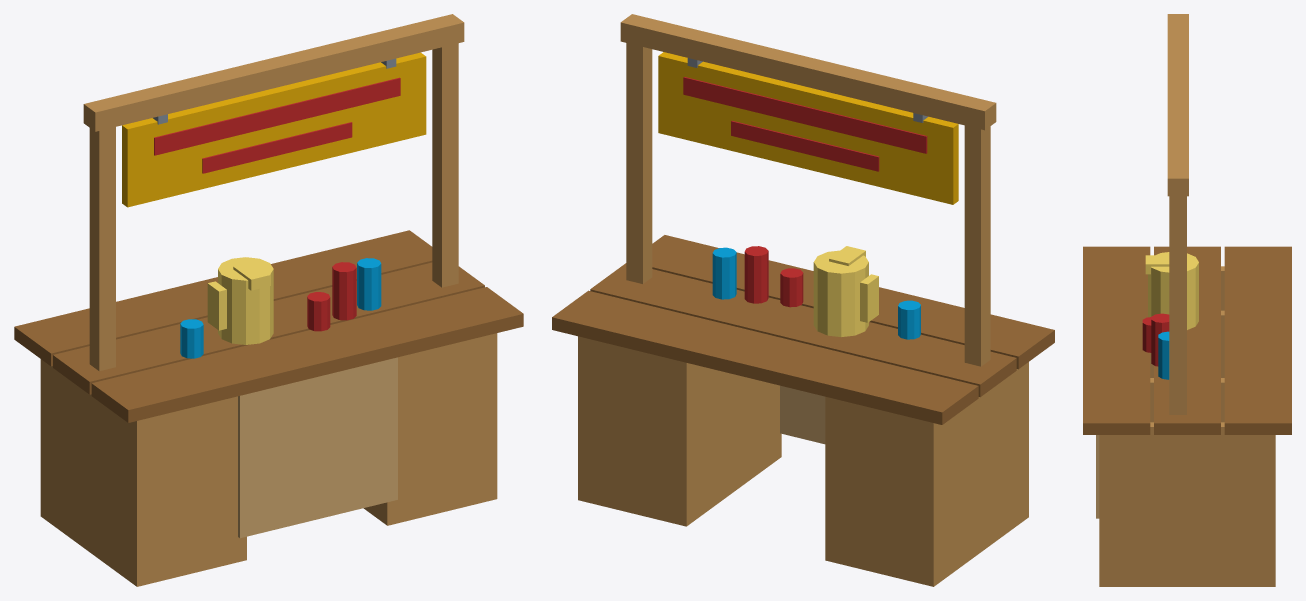
The model's file is obs_lemonade_stand_destructible.glb.
The picture shows the model from 3 angles, left to right: view 1: azimuth 30°, elevation 25°; view 2: azimuth 150°, elevation 25°; view 3: azimuth 270°, elevation 25°; orthographic projection. The views are drawn at different scales.
Parts seen in each view (by area): view 1: body, counter_plank_1, sign_swing, cardboard_apron, pitcher_body, cup_stack_r1, cup_stack_c1; view 2: body, counter_plank_1, sign_swing, pitcher_body, cup_stack_r1, cardboard_apron, cup_stack_c1; view 3: body, counter_plank_1, pitcher_body, cup_stack_r1, cup_stack_c1, cardboard_apron.
Boxes of the visible parts, left/top/right/bottom form: body: left=40, top=14, right=497, bottom=586; counter_plank_1: left=14, top=230, right=523, bottom=422; sign_swing: left=122, top=52, right=426, bottom=207; cardboard_apron: left=238, top=357, right=397, bottom=538; pitcher_body: left=207, top=257, right=273, bottom=344; cup_stack_r1: left=307, top=262, right=356, bottom=331; cup_stack_c1: left=180, top=258, right=381, bottom=358; body: left=578, top=14, right=1028, bottom=586; counter_plank_1: left=552, top=235, right=1054, bottom=424; sign_swing: left=658, top=52, right=958, bottom=204; pitcher_body: left=813, top=246, right=878, bottom=336; cup_stack_r1: left=744, top=246, right=803, bottom=307; cardboard_apron: left=780, top=385, right=825, bottom=444; cup_stack_c1: left=712, top=247, right=920, bottom=339; body: left=1099, top=14, right=1275, bottom=586; counter_plank_1: left=1083, top=246, right=1291, bottom=434; pitcher_body: left=1145, top=252, right=1198, bottom=329; cup_stack_r1: left=1142, top=313, right=1169, bottom=366; cup_stack_c1: left=1158, top=331, right=1169, bottom=379; cardboard_apron: left=1096, top=435, right=1099, bottom=518.
Size of the model in its own units: 1.8 by 1.95 by 0.9.
